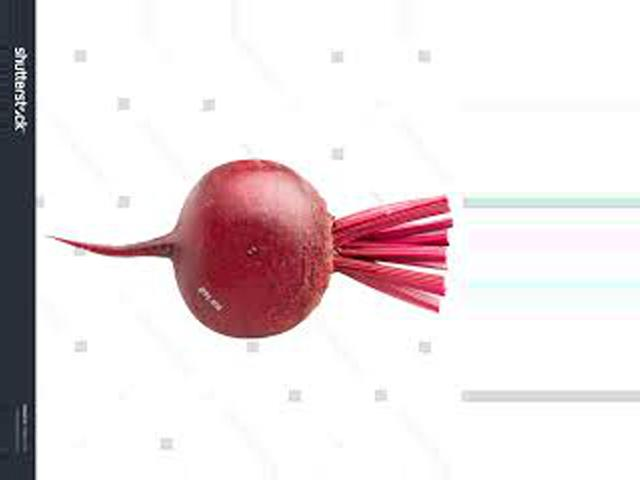beet: (45, 160, 449, 338)
